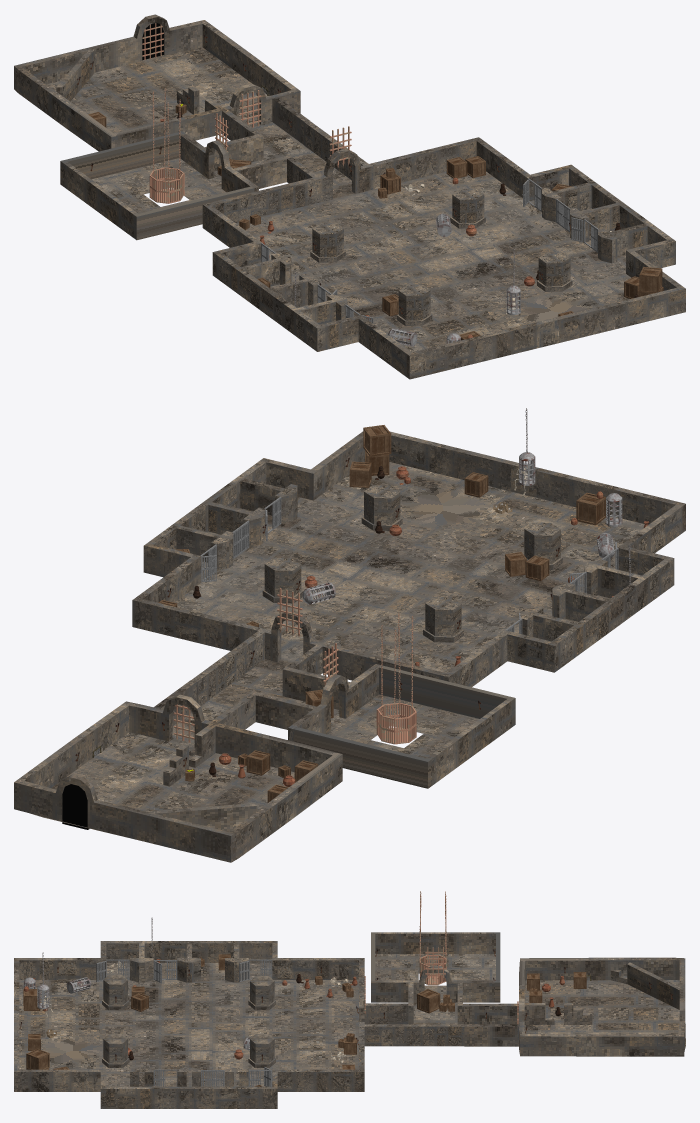
File: Throwing Tutorial.glb
3 views of the same model, one above another, from view 1: azimuth 30°, elevation 25°; view 2: azimuth 150°, elevation 25°; view 3: azimuth 270°, elevation 25° (orthographic). The views are drawn at different scales.
Parts seen in each view (by area): view 1: floor.001, sciany.005, Walls, Plane, sciany.006, Plane.001, kraty_8, Elevator; view 2: floor.001, sciany.005, Walls, Plane, sciany.006, Plane.001, Elevator, kraty_8, Entrance; view 3: floor.001, sciany.005, Walls, Plane, sciany.006, Plane.001, kraty_8, Elevator, gate.002.
Part boxes in pixels (box(x1,y1,x2,y2)): floor.001: box(236, 167, 630, 352); sciany.005: box(202, 121, 685, 379); Walls: box(14, 14, 309, 240); Plane: box(46, 47, 326, 188); sciany.006: box(310, 188, 572, 325); Plane.001: box(92, 158, 226, 213); kraty_8: box(261, 178, 598, 323); Elevator: box(149, 88, 183, 203); floor.001: box(174, 462, 644, 695); sciany.005: box(132, 431, 685, 705); Walls: box(14, 664, 515, 862); Plane: box(31, 684, 345, 835); sciany.006: box(262, 485, 562, 642); Plane.001: box(325, 694, 479, 758); Elevator: box(377, 612, 416, 744); kraty_8: box(200, 497, 618, 634); Entrance: box(62, 784, 89, 829); floor.001: box(19, 963, 358, 1086); sciany.005: box(14, 941, 464, 1108); Walls: box(371, 932, 685, 1056); Plane: box(413, 980, 685, 1049); sciany.006: box(102, 974, 275, 1067); Plane.001: box(375, 954, 495, 1000); kraty_8: box(96, 959, 272, 1086); Elevator: box(419, 891, 446, 984); gate.002: box(425, 947, 445, 979).
Bounding box in the file's own units: 33.88 × 8.95 × 61.35.
Materials: 21 (18 with a texture image).
